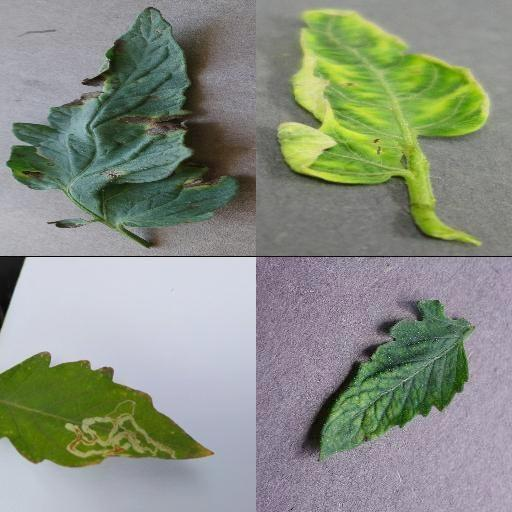Early Blight: (8, 7, 240, 227)
Leaf Miner: (1, 351, 217, 469)
Mosaic Virus: (317, 297, 471, 463)
Yellow Leaf Curl Virus: (276, 7, 490, 185)
